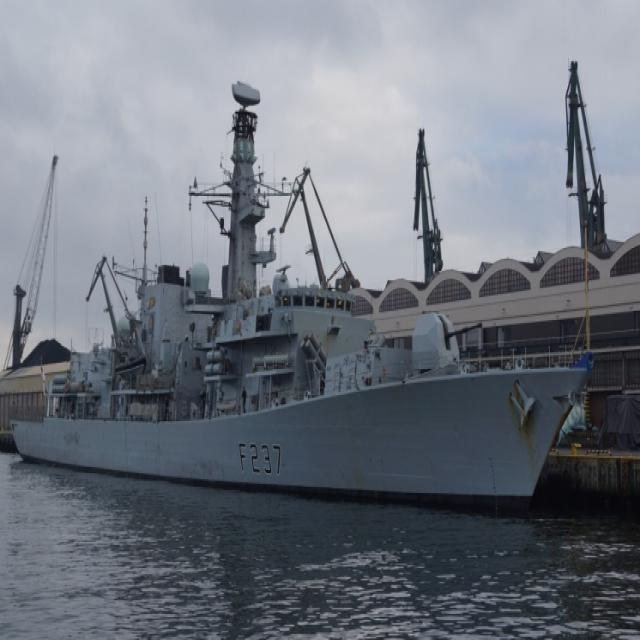Fragata: (7, 70, 596, 509)
